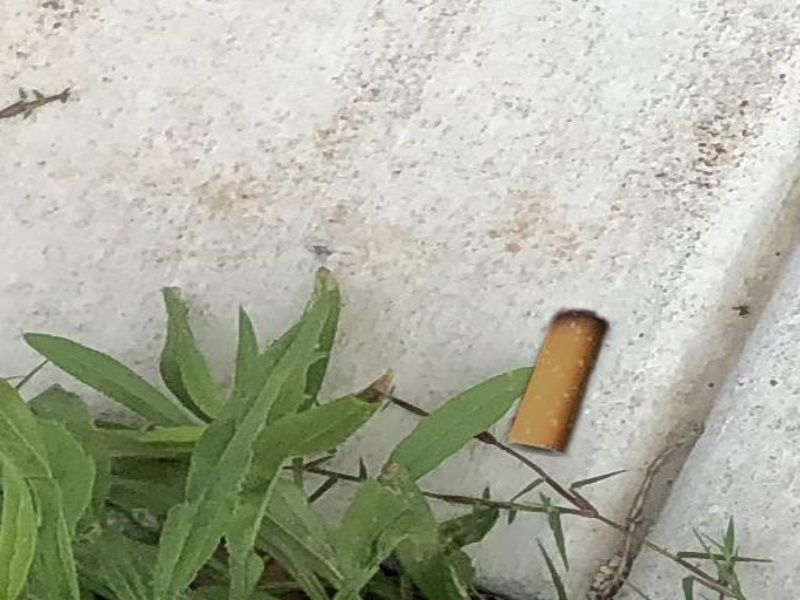cig: (505, 301, 613, 456)
